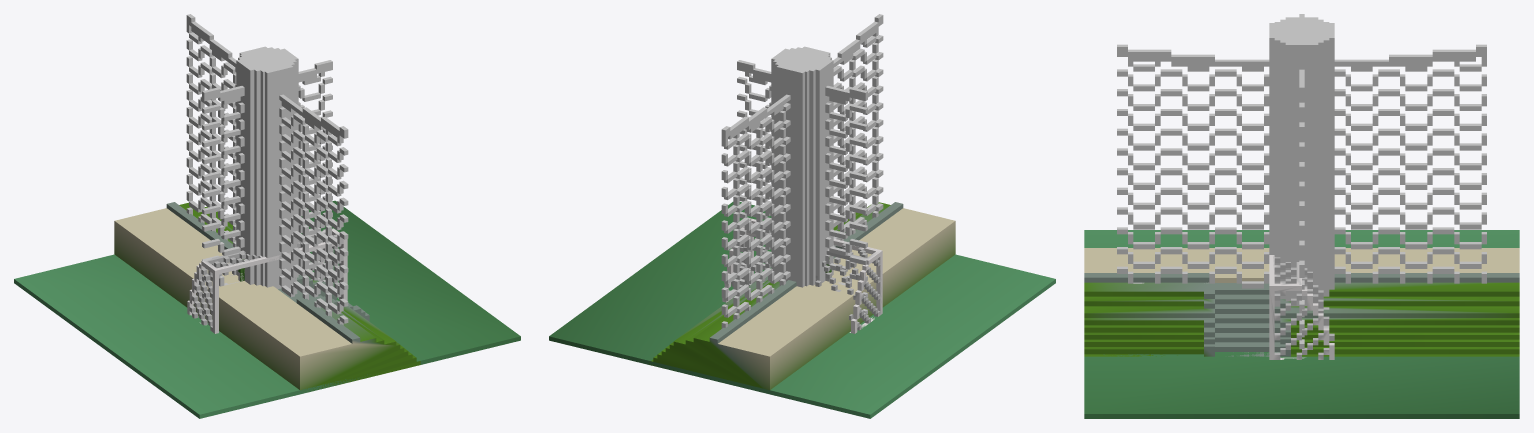
Rendered from Ground.fbx.
3 renders of one model, left to right at view 1: azimuth 30°, elevation 25°; view 2: azimuth 150°, elevation 25°; view 3: azimuth 270°, elevation 25°, orthographic. The views are drawn at different scales.
Visible parts, largest first — view 1: ground-soccer-A, road, net, tower, net-half, soccerGorl, tower-half; view 2: ground-soccer-A, road, net, tower, net-half, soccerGorl, tower-half, ground-soccer-B; view 3: road, net, ground-soccer-A, tower, soccerGorl, net-half, ground, tower-half.
Part boxes in pixels (bbox=[...]): ground-soccer-A: bbox=[14, 200, 520, 418]; road: bbox=[114, 202, 420, 391]; net: bbox=[186, 14, 348, 325]; tower: bbox=[236, 46, 298, 289]; net-half: bbox=[202, 60, 332, 315]; soccerGorl: bbox=[187, 228, 347, 333]; tower-half: bbox=[239, 50, 281, 288]; ground-soccer-A: bbox=[549, 202, 1055, 418]; road: bbox=[649, 202, 955, 390]; net: bbox=[721, 14, 883, 328]; tower: bbox=[771, 46, 833, 286]; net-half: bbox=[737, 60, 867, 314]; soccerGorl: bbox=[722, 218, 882, 333]; tower-half: bbox=[786, 50, 830, 287]; ground-soccer-B: bbox=[871, 279, 1055, 416]; road: bbox=[1084, 248, 1519, 356]; net: bbox=[1117, 44, 1486, 288]; ground-soccer-A: bbox=[1084, 230, 1519, 418]; tower: bbox=[1269, 17, 1334, 306]; soccerGorl: bbox=[1269, 255, 1334, 359]; net-half: bbox=[1299, 14, 1304, 349]; ground: bbox=[1084, 414, 1518, 418]; tower-half: bbox=[1269, 23, 1334, 36].
Bounding box in the file's own units: 800 × 600 × 800.
